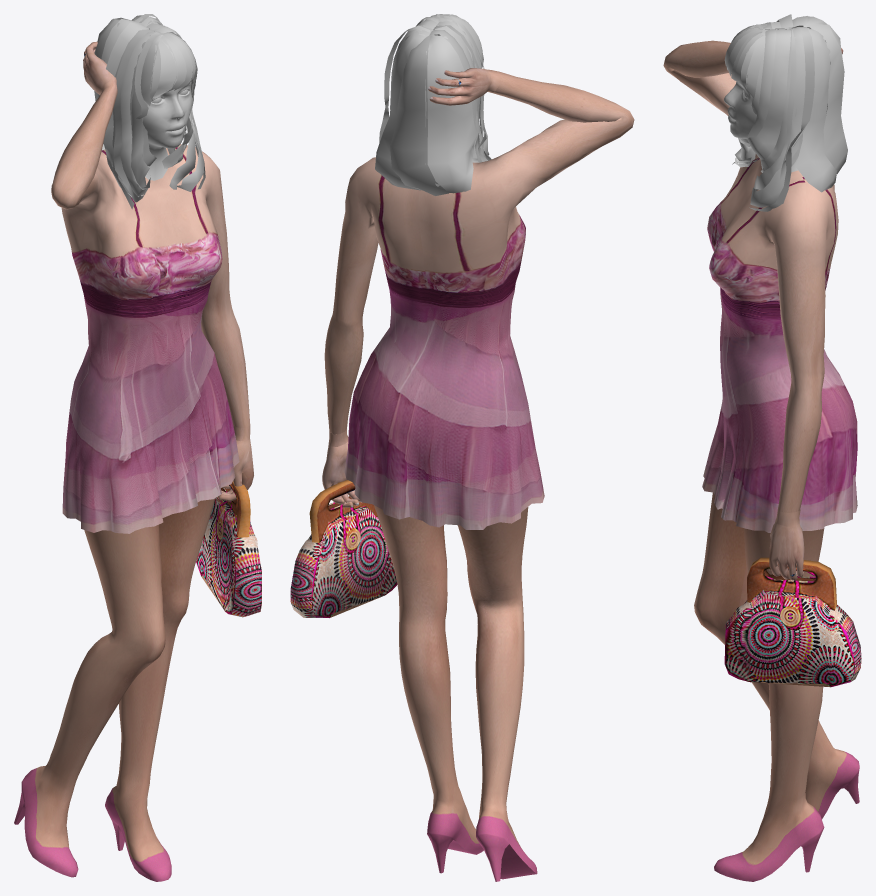
The picture shows the model from 3 angles, left to right: view 1: azimuth 30°, elevation 25°; view 2: azimuth 150°, elevation 25°; view 3: azimuth 270°, elevation 25°; orthographic projection. The views are drawn at different scales.
Visible parts, largest first — view 1: mUA_Female12_2; view 2: mUA_Female12_2; view 3: mUA_Female12_2.
Part boxes in pixels (x1,y1,x2,y2): mUA_Female12_2: (14, 14, 261, 881); mUA_Female12_2: (290, 14, 634, 881); mUA_Female12_2: (663, 14, 861, 881).
Bounding box in the file's own units: 56.54 × 177 × 36.92.
